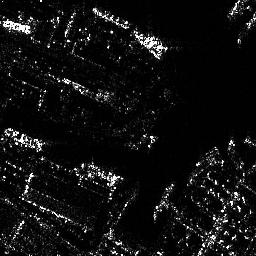ship: (79, 160, 122, 188), (1, 127, 44, 152), (91, 5, 131, 29)
